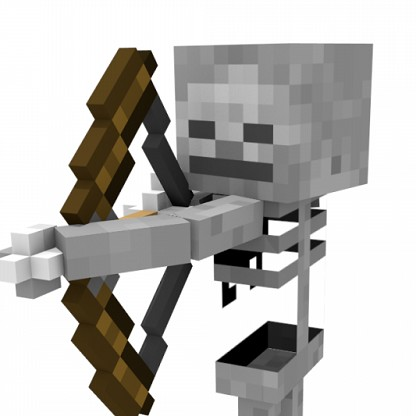skeleton: (88, 27, 380, 288)
